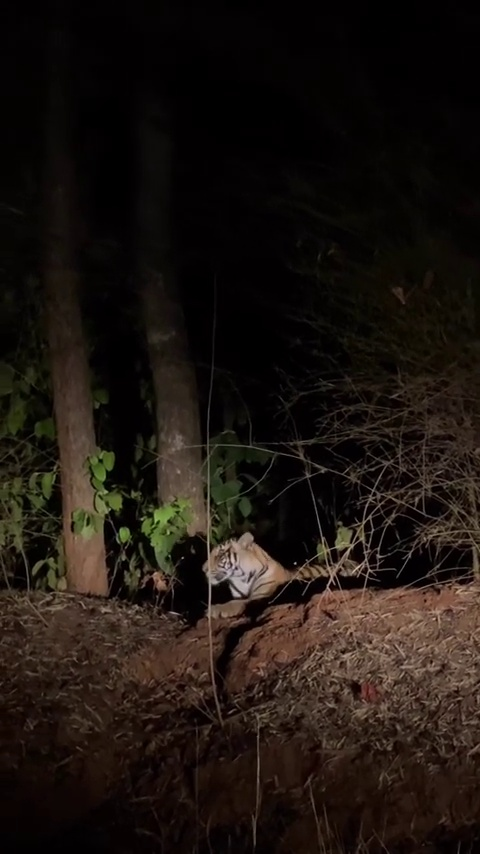Tiger: (198, 532, 367, 624)
